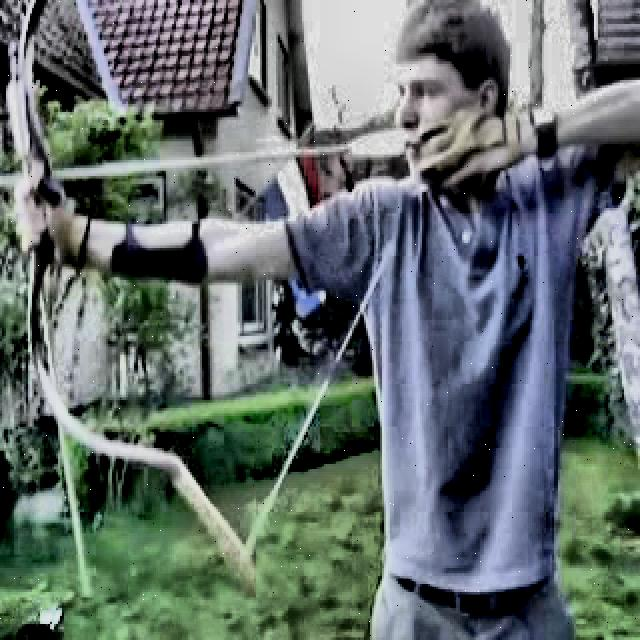P: (19, 5, 580, 632)
